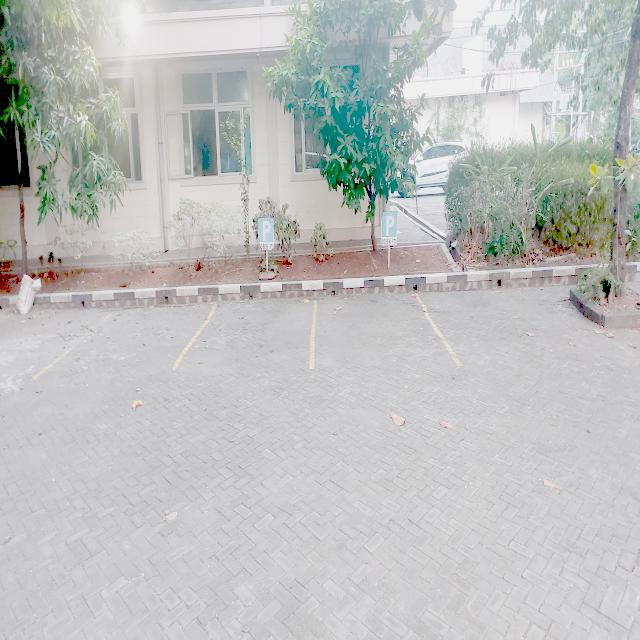empty: (417, 281, 635, 368), (36, 306, 215, 373), (312, 295, 460, 365), (176, 298, 316, 368)
